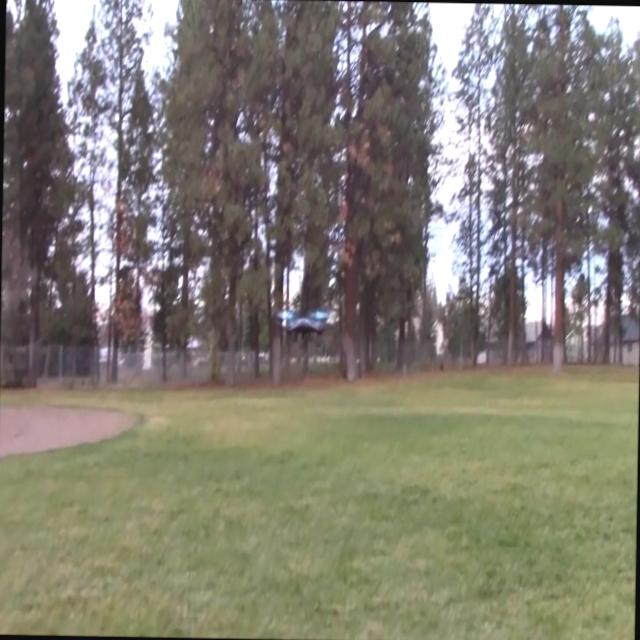drone: (274, 300, 344, 346)
